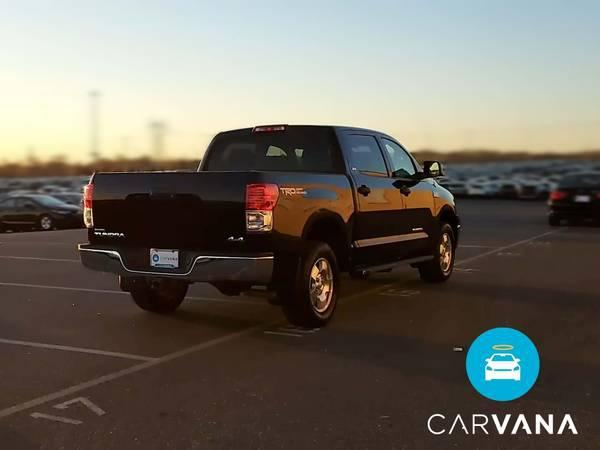Front_Fender: (433, 181, 458, 219)
Front_Right_Door: (393, 177, 436, 262)
Front_Right_Window: (377, 132, 432, 181)
Left_Taillight: (83, 184, 94, 230)
Rear_Bumper: (82, 241, 279, 285)
Rear_Fender: (246, 166, 355, 279)
Rear_Right_Door: (348, 173, 404, 269)
Rear_Right_Window: (332, 127, 392, 176)
Rear_Windshield: (196, 124, 347, 172)
Right_Taillight: (246, 181, 283, 232)
Tailgate: (89, 169, 271, 249)
Wheel: (282, 241, 344, 326), (420, 221, 457, 279), (128, 279, 189, 310)
